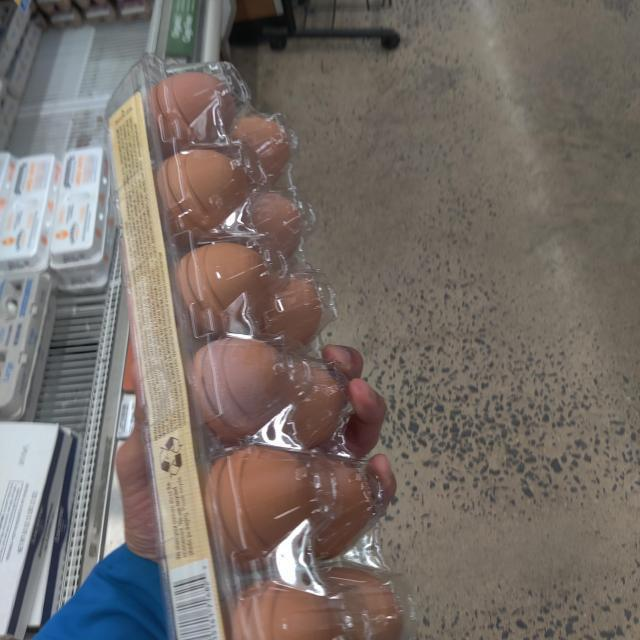Eggs: (108, 55, 410, 640), (1, 152, 63, 274), (51, 147, 109, 270)
